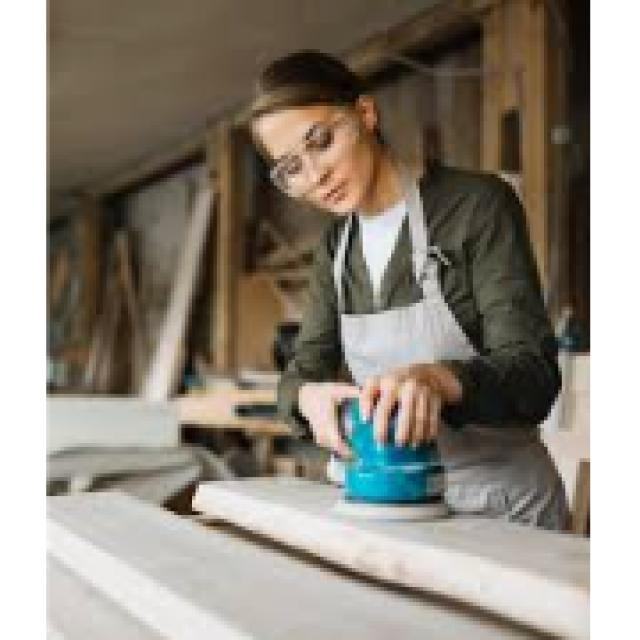glasses: (271, 113, 352, 192)
